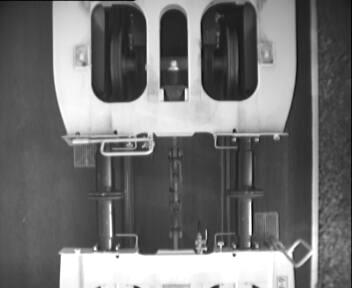twist_lock_2: (80, 1, 269, 114)
